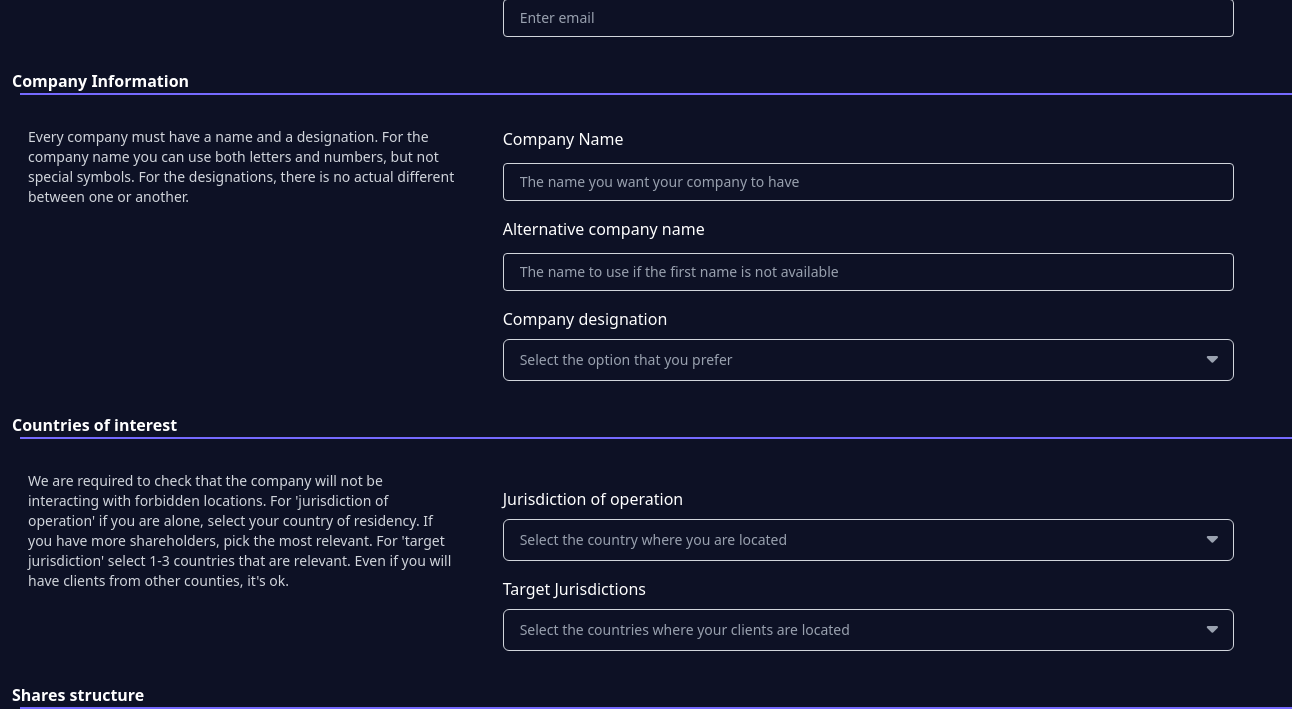
Scenario: Testing Home View › testing alt company designation valid selection
(page scrolled)
Click the text with test id "company-designation". click: (868, 360)
box: [503,339,1234,381]
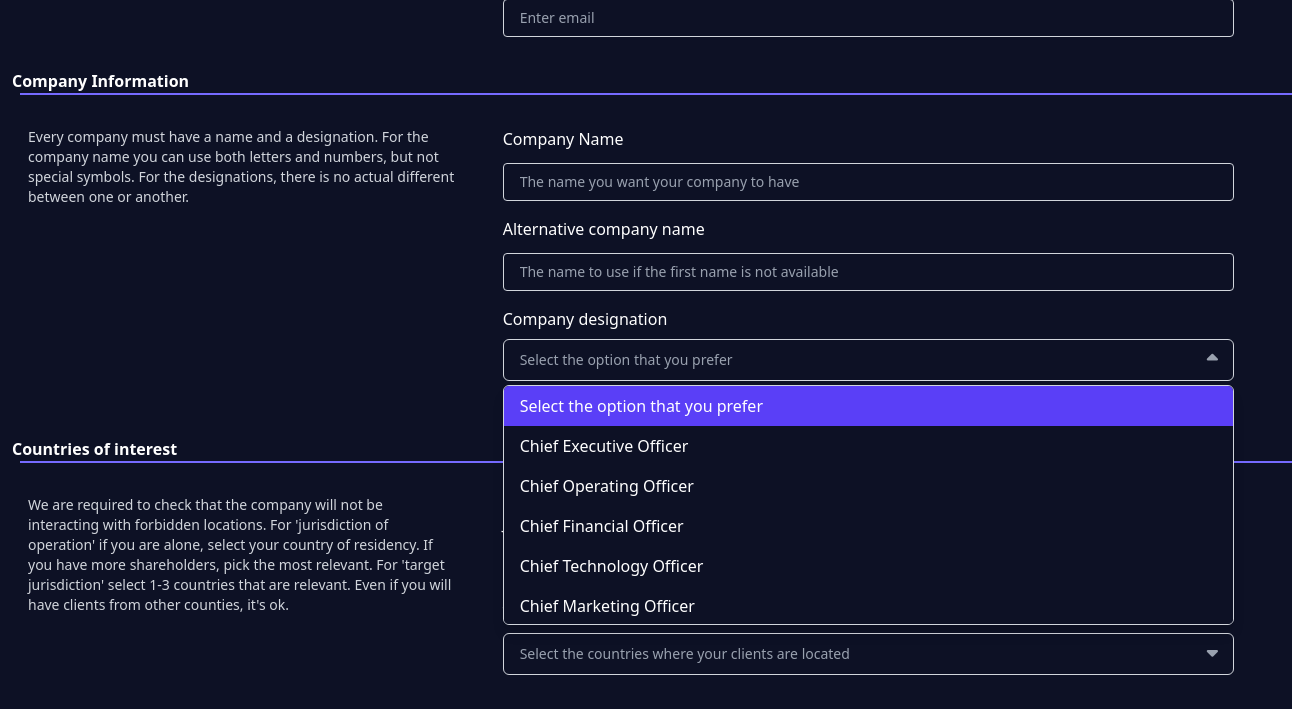
Click the option "Chief Executive Officer". click: (604, 446)
box: [520,435,688,457]
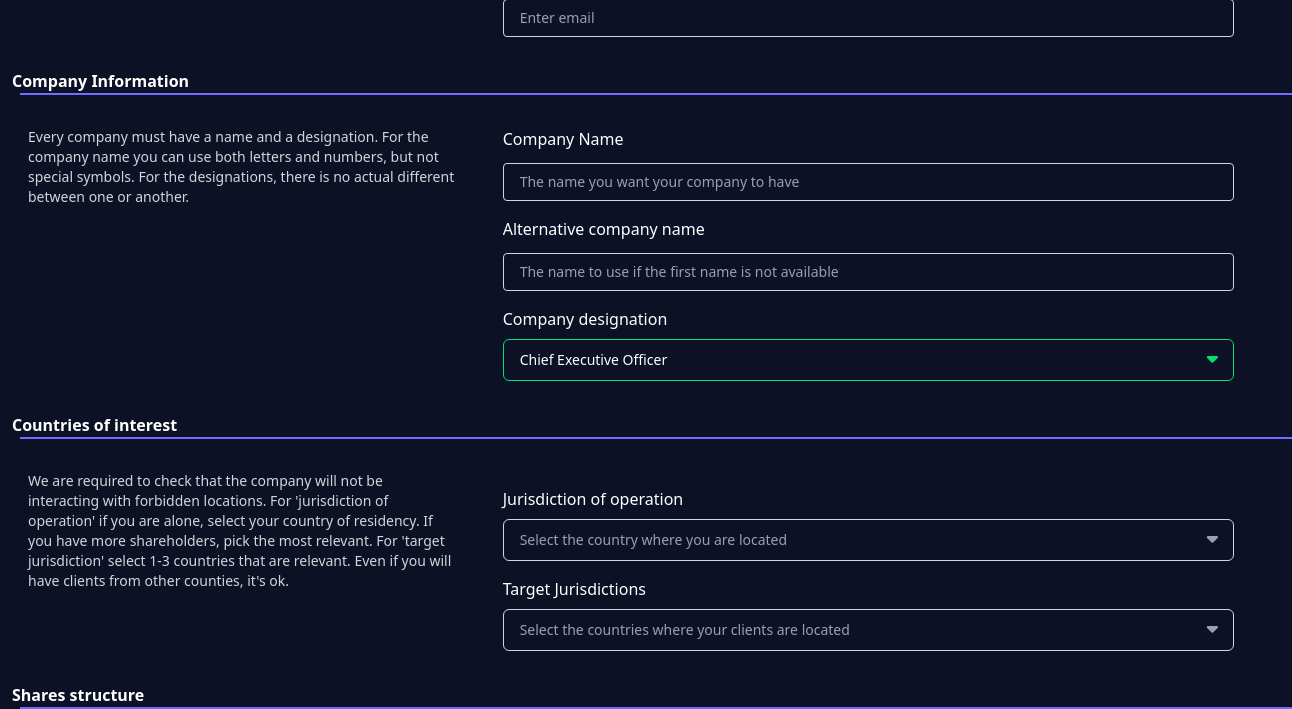
Result: the text "Chief Executive Officer" is shown at [503,339,1234,381]
Result: the text "Please select a designation from the list." is gone
